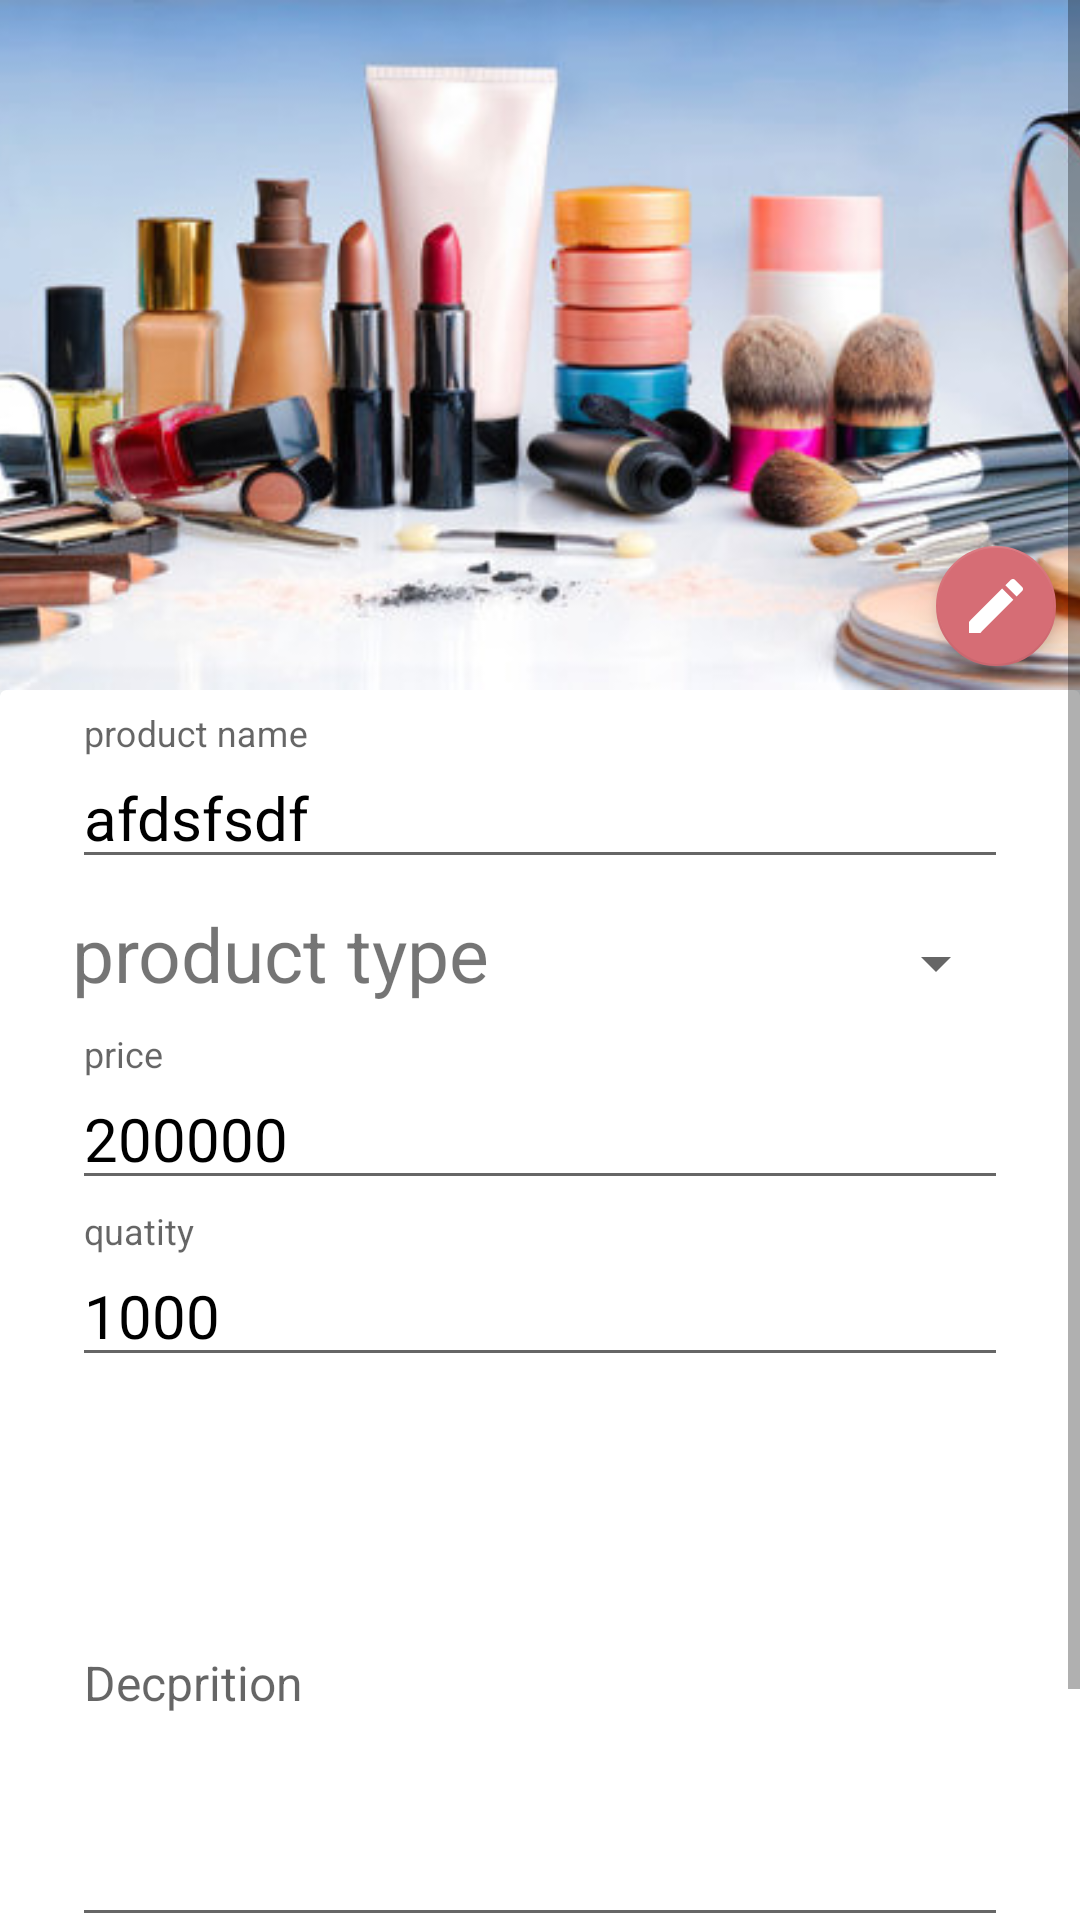

Named icons in this screenshot (1080px x 1920px) and their centers, [x,y]:
mode edit: [996,606]
